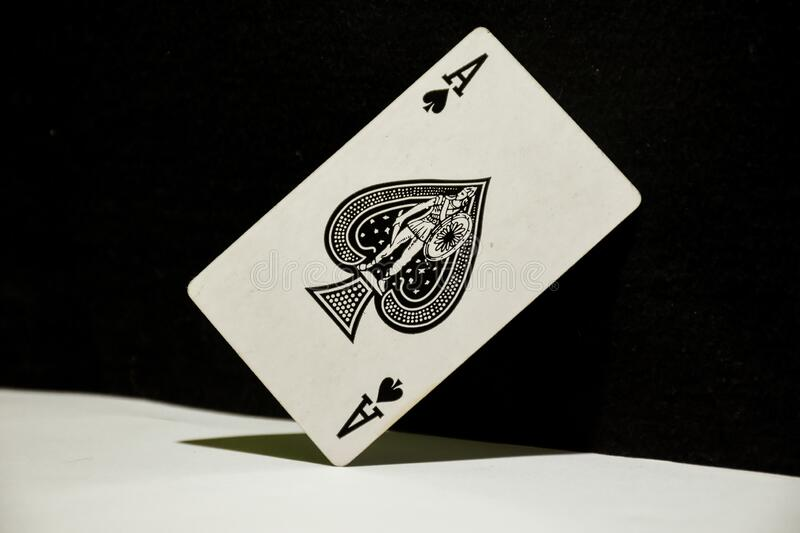ace of spades: (184, 29, 644, 465)
